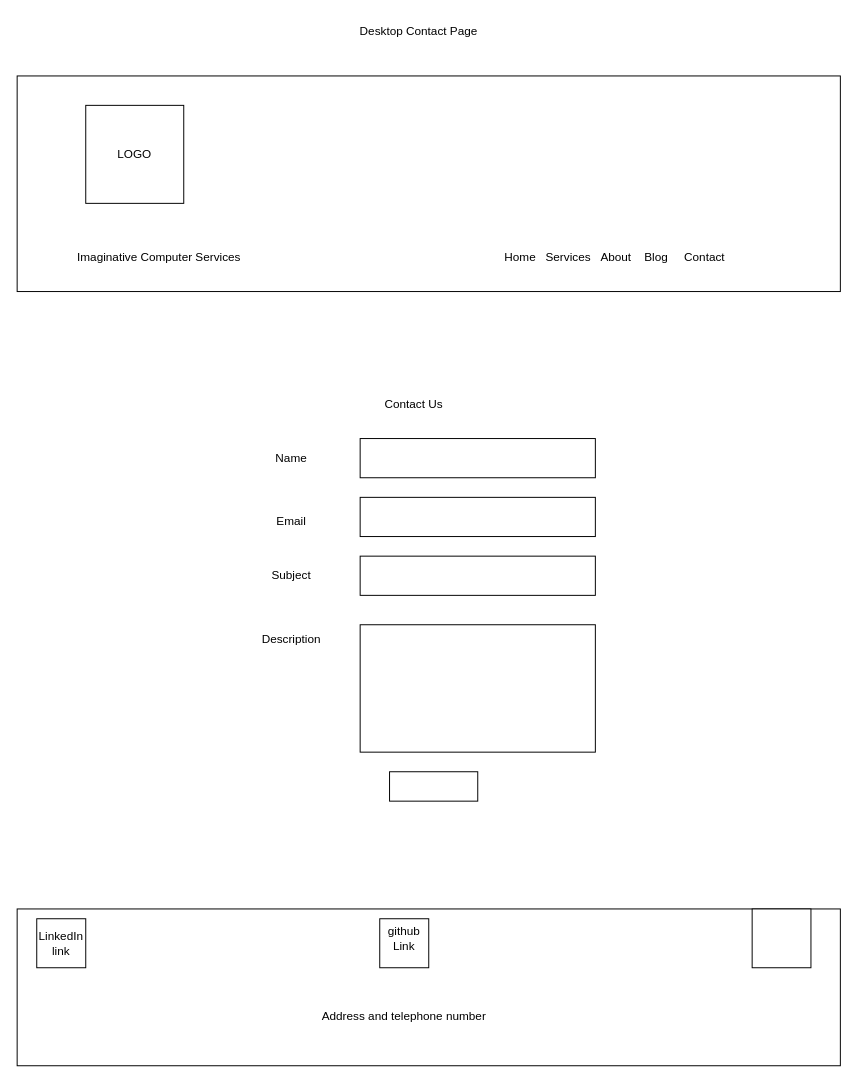
Image size: 858x1083. Some labels were removed from this diagram. Here are the shapes that lost their labels. From the top down, the centre of each, then its label:
point 433,786: Submit Button
point 781,938: Facebook Link
